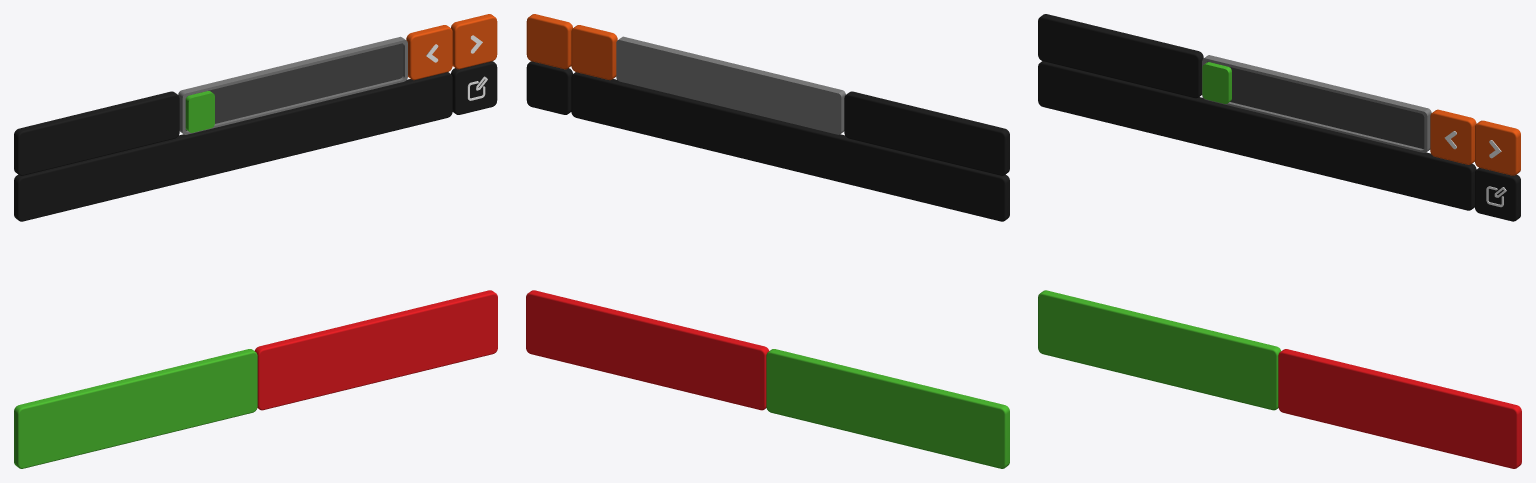
File: MainMenu.fbx
The picture shows the model from 3 angles, left to right: view 1: azimuth 30°, elevation 25°; view 2: azimuth 150°, elevation 25°; view 3: azimuth 330°, elevation 25°; orthographic projection.
Parts seen in each view (by area): view 1: Curve.017, Curve.034, Curve.028, Curve.019, Curve.025, Curve.023, Curve.035, Curve.036, Curve.038, Curve.026; view 2: Curve.017, Curve.034, Curve.028, Curve.023, Curve.019, Curve.036, Curve.035, Curve.038; view 3: Curve.017, Curve.028, Curve.034, Curve.019, Curve.025, Curve.023, Curve.035, Curve.036, Curve.038, Curve.026.
Part boxes in pixels (x1,y1,x2,y2): Curve.017: (14, 72, 452, 221); Curve.034: (14, 349, 257, 468); Curve.028: (254, 290, 497, 410); Curve.019: (14, 91, 179, 175); Curve.025: (185, 43, 402, 130); Curve.023: (178, 36, 407, 134); Curve.035: (451, 14, 497, 69); Curve.036: (406, 25, 452, 79); Curve.038: (451, 61, 497, 114); Curve.026: (185, 91, 214, 132); Curve.017: (571, 72, 1009, 221); Curve.034: (766, 349, 1009, 468); Curve.028: (526, 290, 769, 410); Curve.023: (616, 36, 845, 134); Curve.019: (844, 91, 1009, 175); Curve.036: (571, 25, 617, 79); Curve.035: (526, 14, 572, 69); Curve.038: (526, 61, 572, 114); Curve.017: (1038, 61, 1476, 210); Curve.028: (1278, 349, 1521, 468); Curve.034: (1038, 290, 1280, 410); Curve.019: (1038, 14, 1203, 98); Curve.025: (1207, 61, 1424, 148); Curve.023: (1202, 55, 1431, 152); Curve.035: (1475, 120, 1520, 175); Curve.036: (1430, 109, 1476, 164); Curve.038: (1475, 167, 1520, 221); Curve.026: (1202, 62, 1231, 103).
Size of the model in its own units: 426 by 286 by 11.64.
